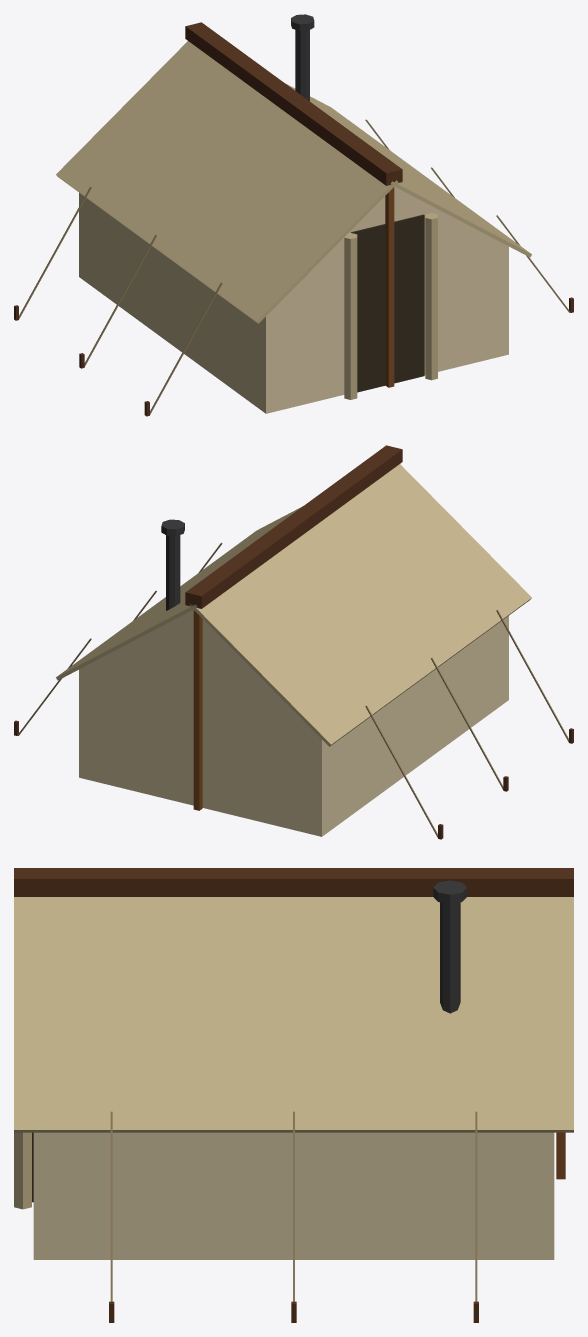
Rendered from Camp_Tent.fbx.
The picture shows the model from 3 angles, top to bottom: view 1: azimuth 30°, elevation 25°; view 2: azimuth 150°, elevation 25°; view 3: azimuth 270°, elevation 25°; orthographic projection. The views are drawn at different scales.
Parts seen in each view (by area): view 1: Camp_Tent; view 2: Camp_Tent; view 3: Camp_Tent.
Part boxes in pixels (bbox=[...]): Camp_Tent: bbox=[14, 14, 573, 416]; Camp_Tent: bbox=[14, 445, 573, 839]; Camp_Tent: bbox=[14, 868, 573, 1322].
Size of the model in its own units: 5.28 by 2.83 by 4.3.
